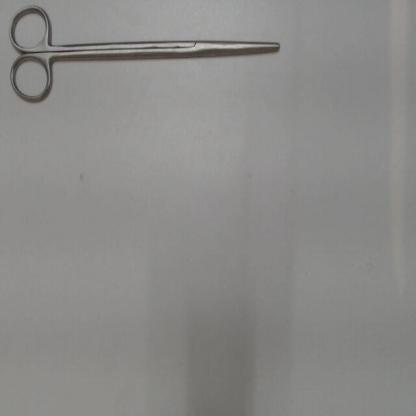9 Metzenbaum Scissors: (5, 4, 284, 110)
